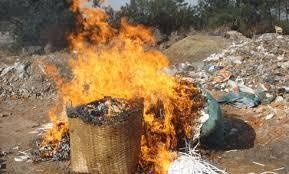fire: (38, 10, 208, 169)
